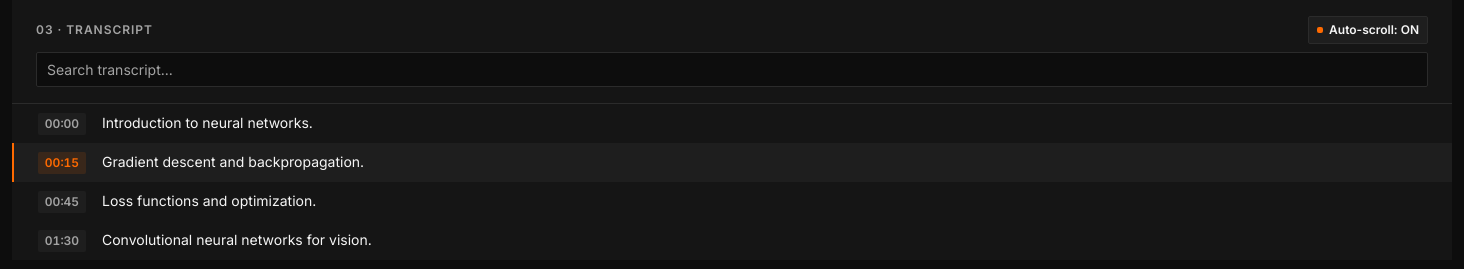
it: TranscriptPanel component › toggles auto-scroll when clicking the auto-scroll button
This screenshot has width=1464, height=269.
Click the button "Auto-scroll: ON". click: click(1368, 30)
box: [1308,16,1428,44]
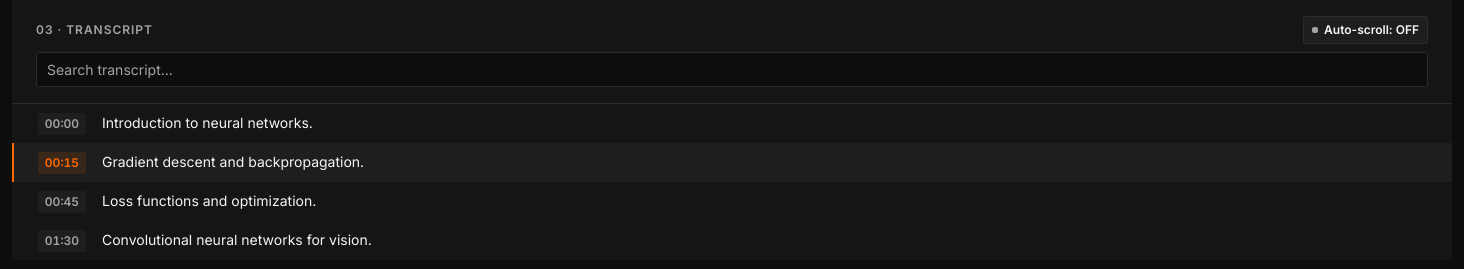
Check: the text "Auto-scroll: OFF" is shown, box [1324,21,1419,39]
Click the button named "Auto-scroll: ON". click: click(1366, 30)
box: [1303,16,1428,44]
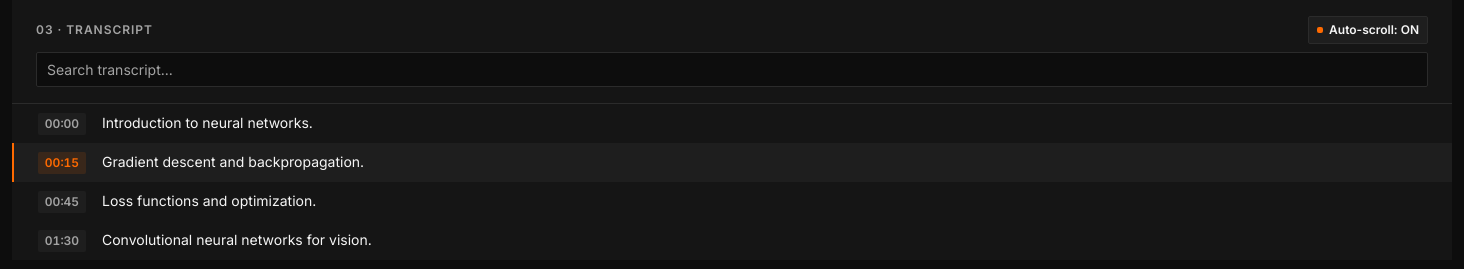
Check: the text "Auto-scroll: ON" is shown, box [1329,21,1419,39]
